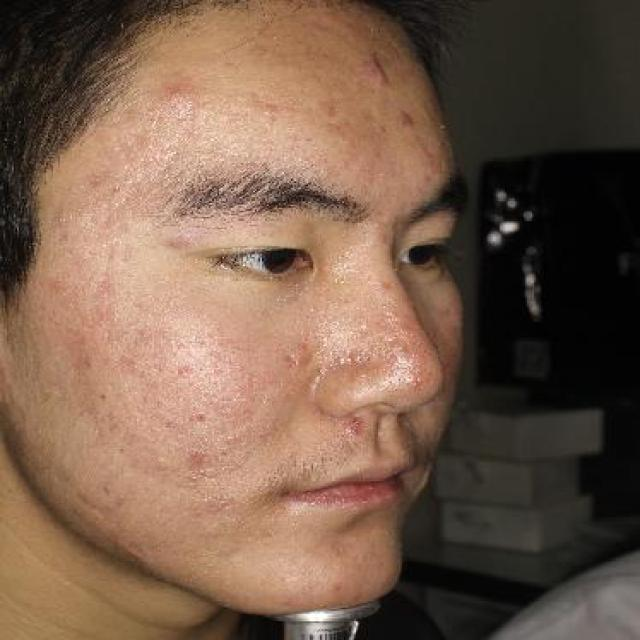Acne: (352, 40, 397, 94), (153, 229, 190, 260), (180, 442, 213, 476), (393, 100, 422, 133)
Whiteheads: (184, 405, 215, 429)
